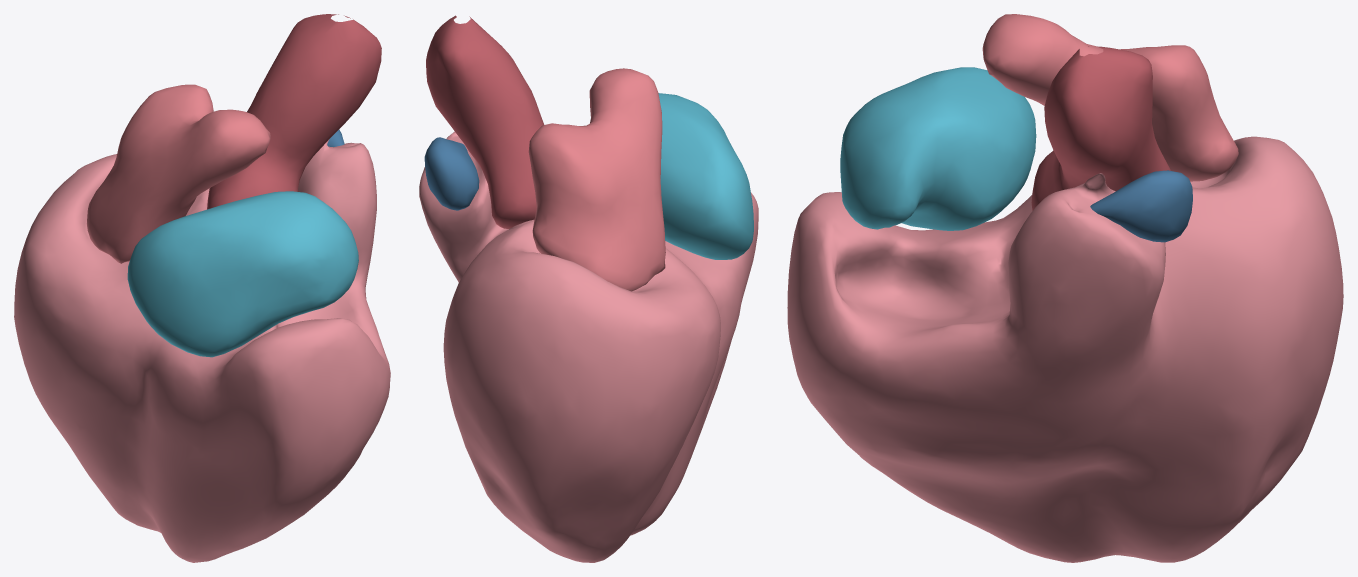
The model's file is frame_57.glb.
The picture shows the model from 3 angles, left to right: view 1: azimuth 30°, elevation 25°; view 2: azimuth 150°, elevation 25°; view 3: azimuth 270°, elevation 25°; orthographic projection. The views are drawn at different scales.
Visible parts, largest first — view 1: Renderer Node; view 2: Renderer Node; view 3: Renderer Node.
Boxes of the visible parts, x1,y1,x2,y2 form: Renderer Node: [14, 14, 390, 562]; Renderer Node: [419, 15, 758, 562]; Renderer Node: [787, 14, 1343, 562].
Size of the model in its own units: 107 by 164 by 137.
